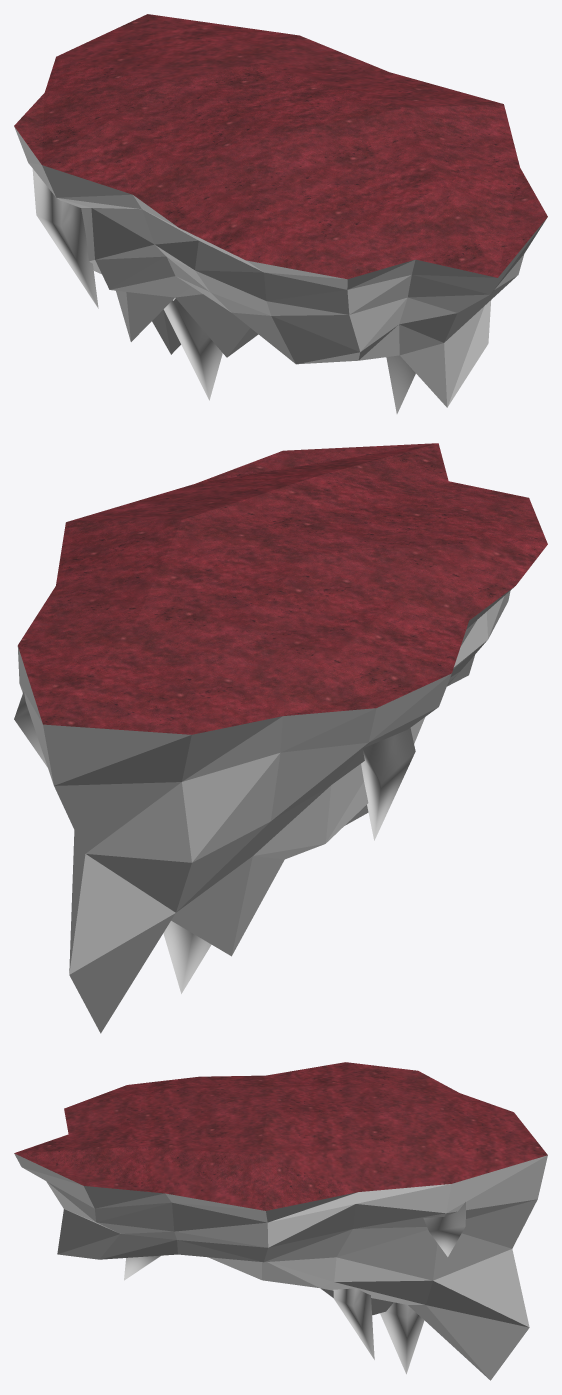
Rendered from z-roche02.FBX.
The picture shows the model from 3 angles, top to bottom: view 1: azimuth 30°, elevation 25°; view 2: azimuth 150°, elevation 25°; view 3: azimuth 270°, elevation 25°; orthographic projection. The views are drawn at different scales.
Parts seen in each view (by area): view 1: roche02; view 2: roche02; view 3: roche02.
Boxes of the visible parts, x1,y1,x2,y2 form: roche02: [14, 14, 547, 413]; roche02: [14, 443, 547, 1033]; roche02: [14, 1062, 547, 1380].
Bounding box in the file's own units: 5416 × 8199 × 4320.
